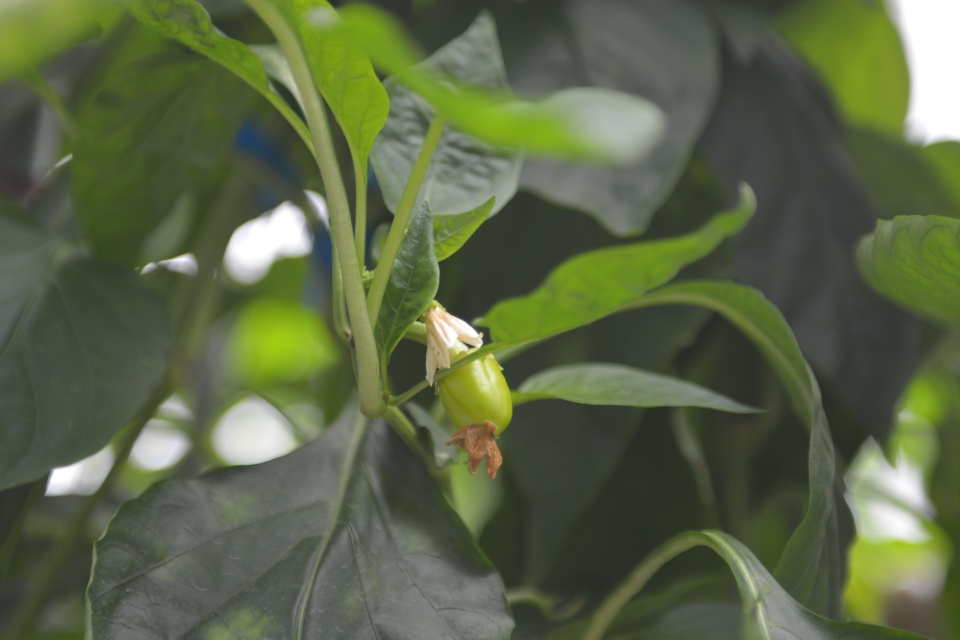flower: (420, 304, 485, 389)
immature: (432, 343, 514, 480)
